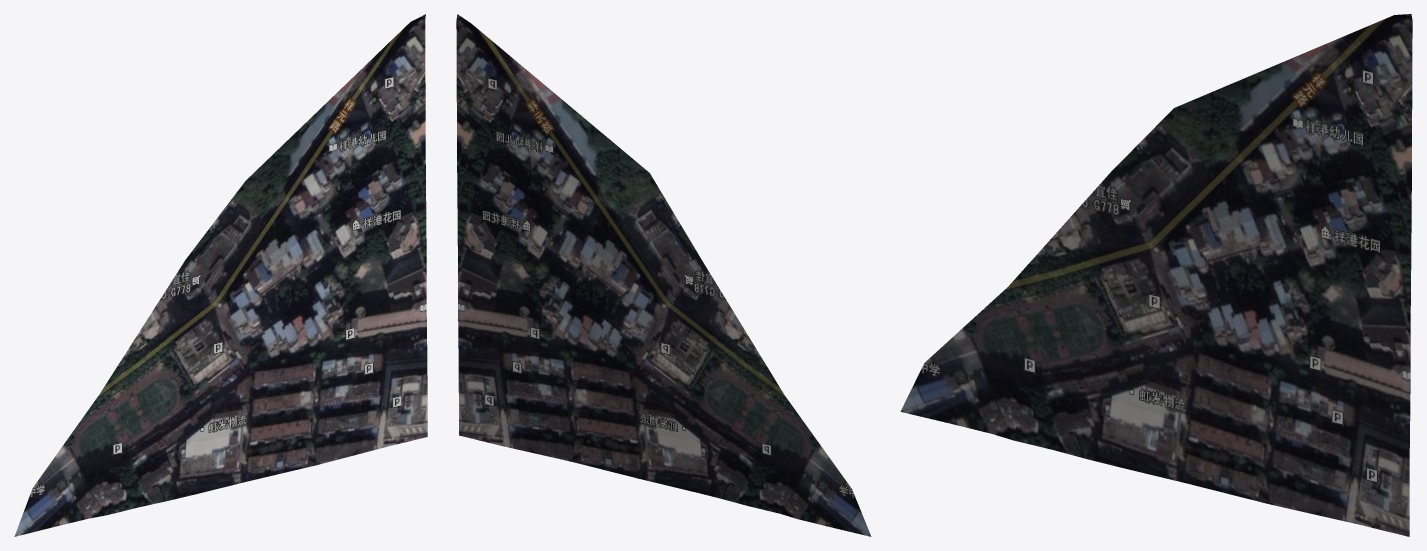
3 views of the same model, side by side, from view 1: azimuth 30°, elevation 25°; view 2: azimuth 150°, elevation 25°; view 3: azimuth 330°, elevation 25° (orthographic). The views are drawn at different scales.
Visible parts, largest first — view 1: 0_0_1_3_3_3; view 2: 0_0_1_3_3_3; view 3: 0_0_1_3_3_3.
Boxes of the visible parts, x1,y1,x2,y2 form: 0_0_1_3_3_3: (14,14,427,536); 0_0_1_3_3_3: (456,14,871,536); 0_0_1_3_3_3: (900,14,1412,536).
Size of the model in its own units: 284 by 277 by 7.9.
1 material, 1 textured.
